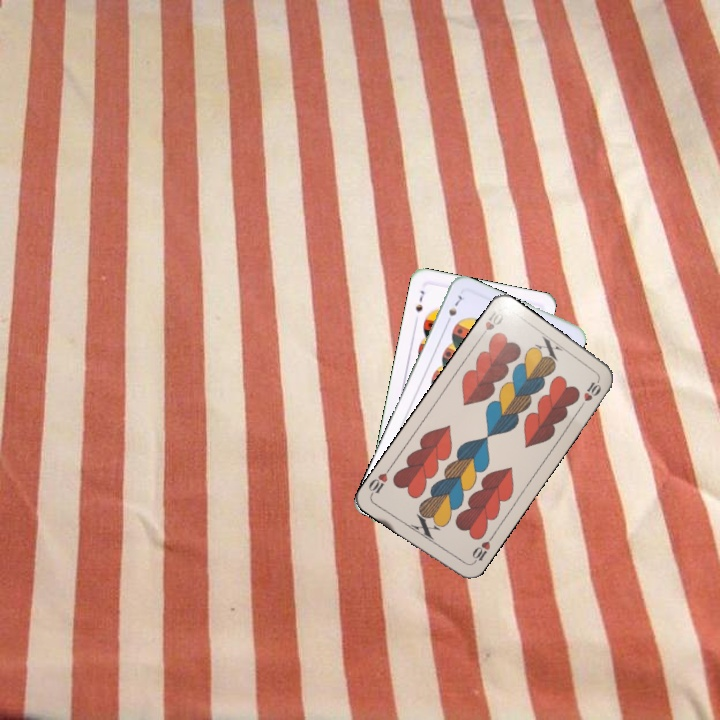H10: (475, 304, 506, 342), (467, 537, 493, 567)
S7: (442, 291, 465, 328), (411, 286, 427, 314)
